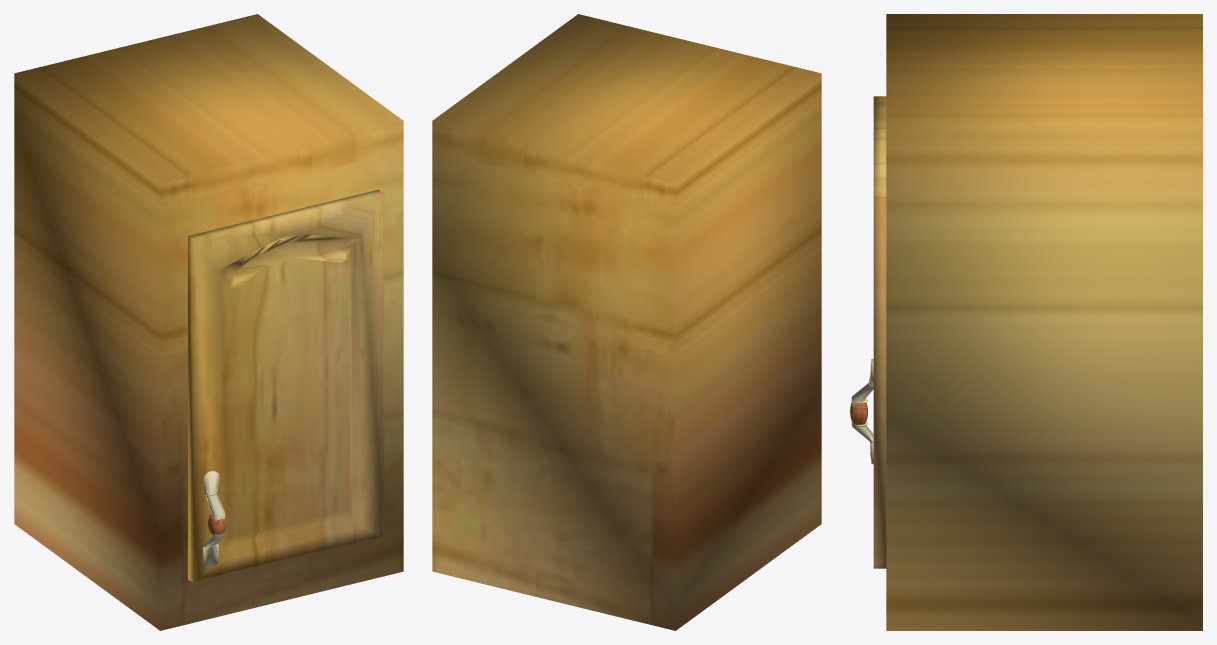
File: 1dooruppercabinet.glb
3 views of the same model, side by side, from view 1: azimuth 30°, elevation 25°; view 2: azimuth 150°, elevation 25°; view 3: azimuth 270°, elevation 25° (orthographic). The views are drawn at different scales.
Visible parts, largest first — view 1: 1DoorUpperCabinet; view 2: 1DoorUpperCabinet; view 3: 1DoorUpperCabinet.
Part boxes in pixels (<box>): 1DoorUpperCabinet: <box>14,14,403,630</box>; 1DoorUpperCabinet: <box>432,14,821,630</box>; 1DoorUpperCabinet: <box>850,14,1202,630</box>.
Bounding box in the file's own units: 3.39 × 6 × 3.93.
4 materials, 3 textured.
